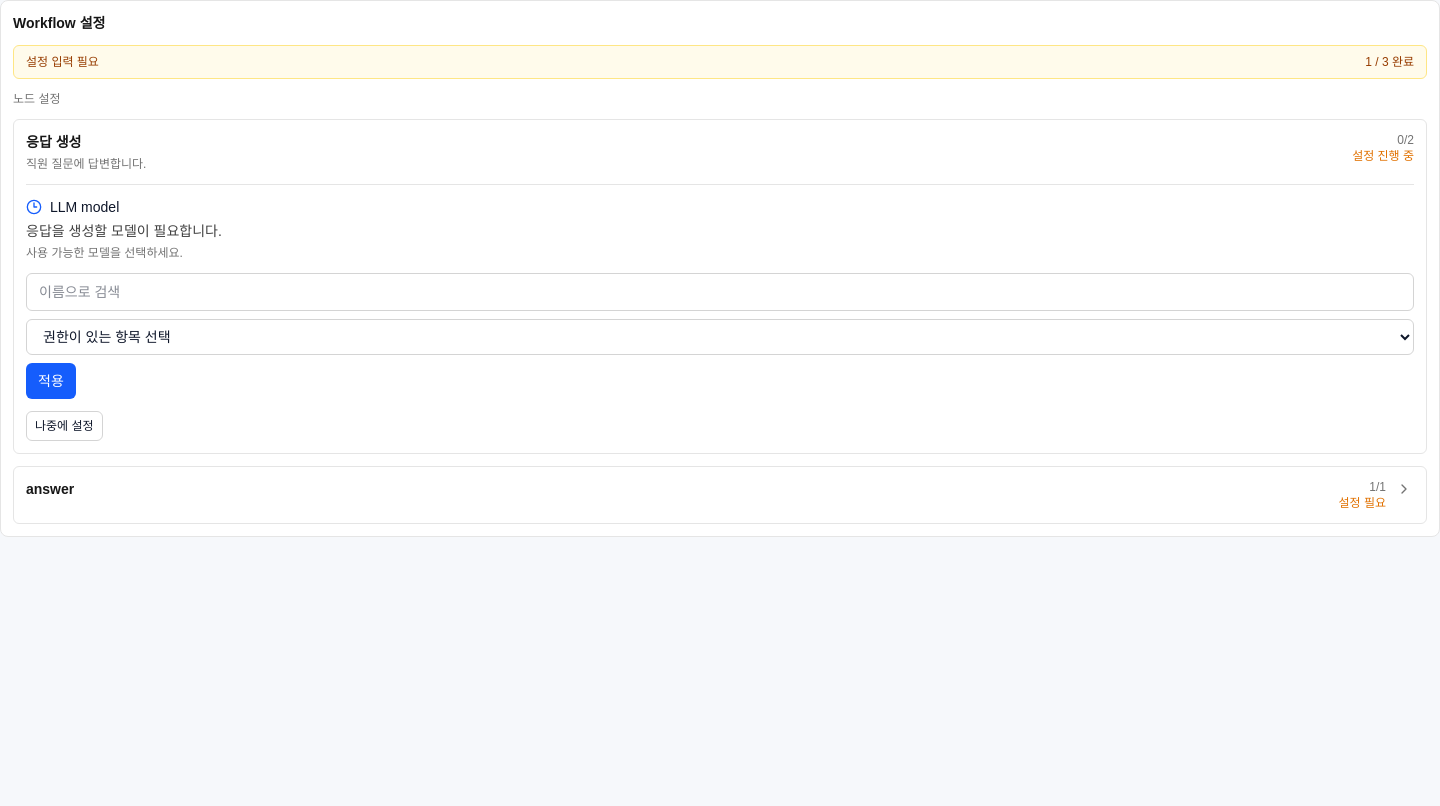
it: Agent Builder parameter cards › 완료한 task를 다시 열어 수정할 수 있다
The image size is (1440, 806).
Click the button named "answer 설정 보기".
click(1404, 489)  # box [1394,479,1414,499]
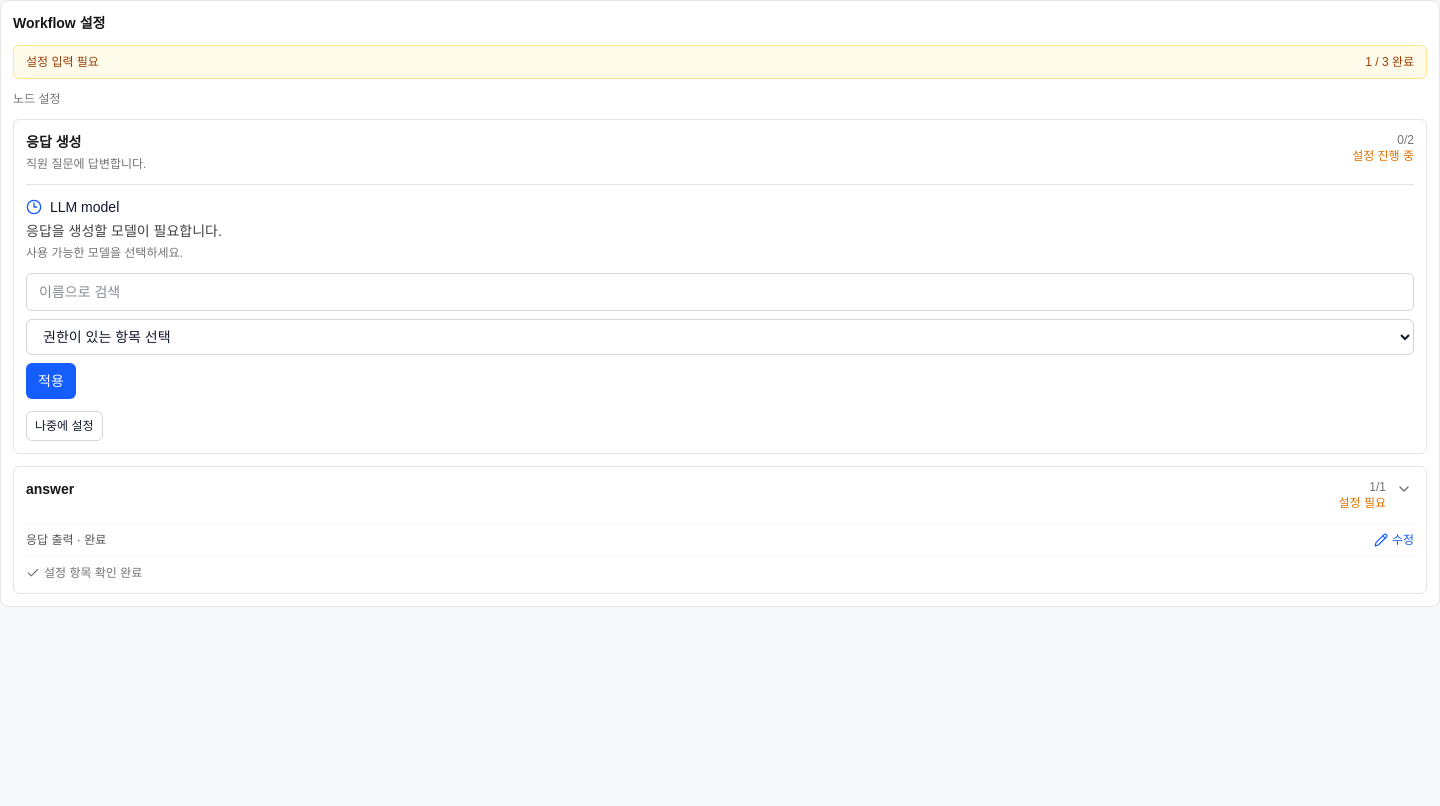
Click the button with aria-label "응답 출력 수정".
click(1394, 540)  # box [1374,532,1414,548]
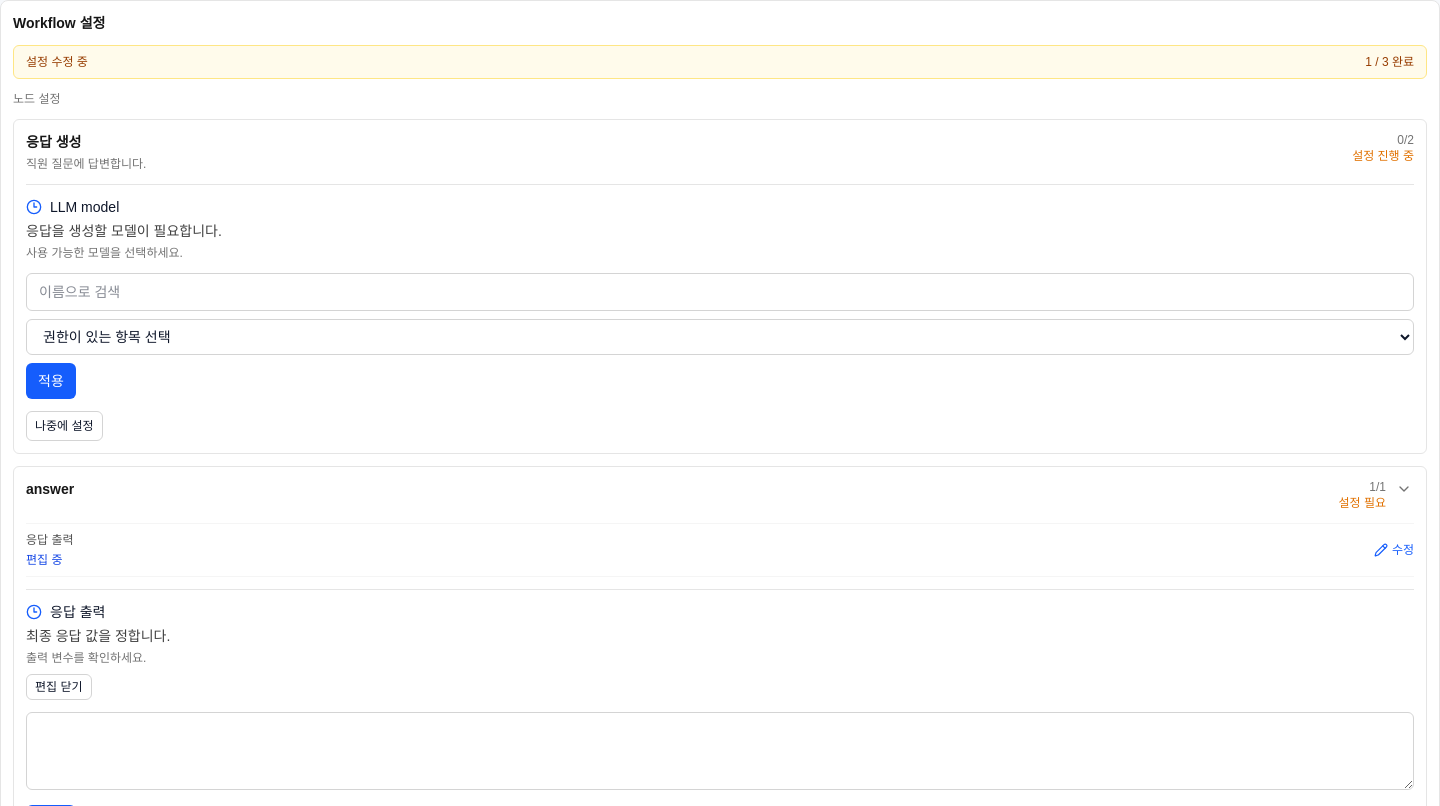
Result: the text "최종 응답 값을 정합니다." is shown at [26,628,170,644]
